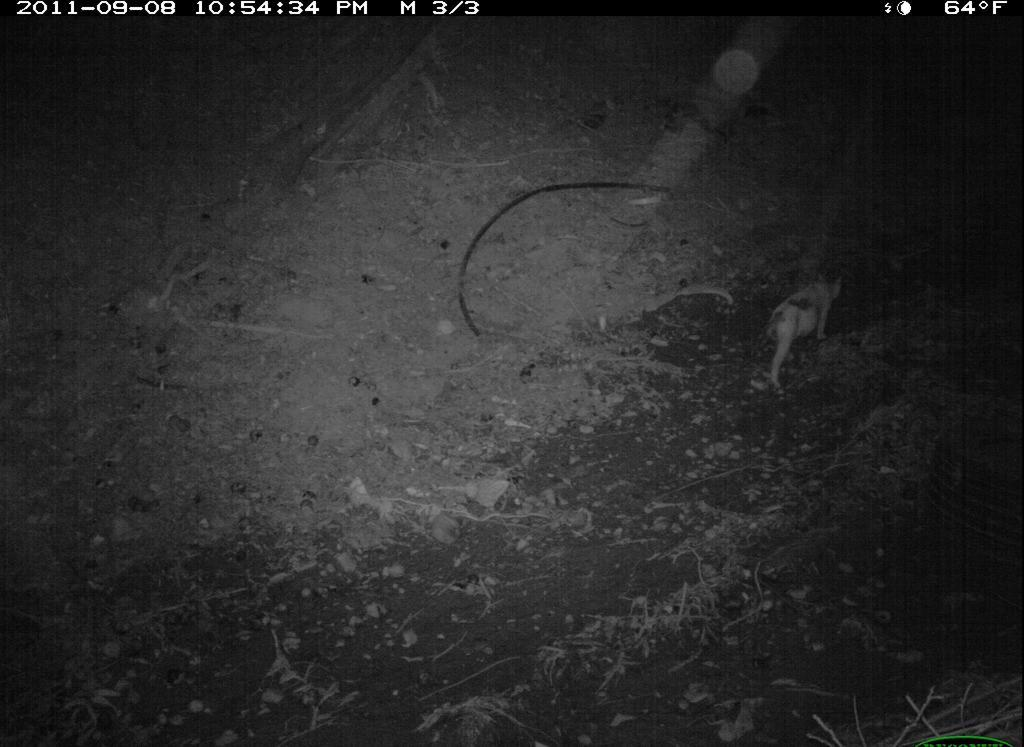cat: (763, 253, 858, 395)
